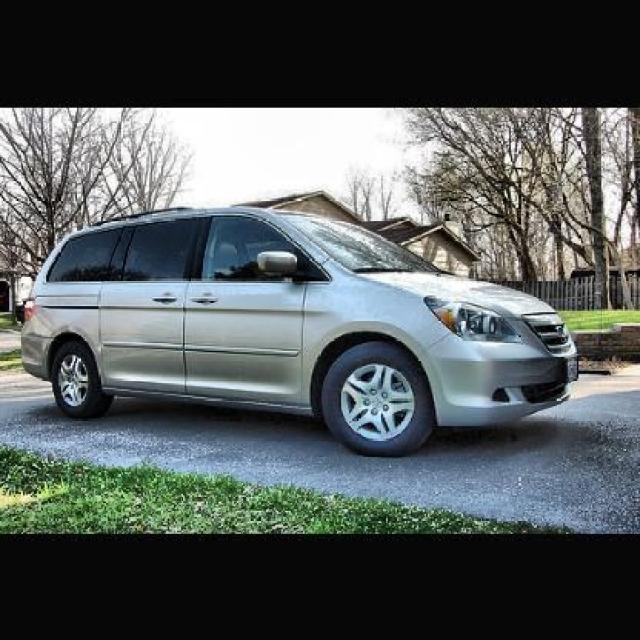silver: (20, 208, 577, 456)
